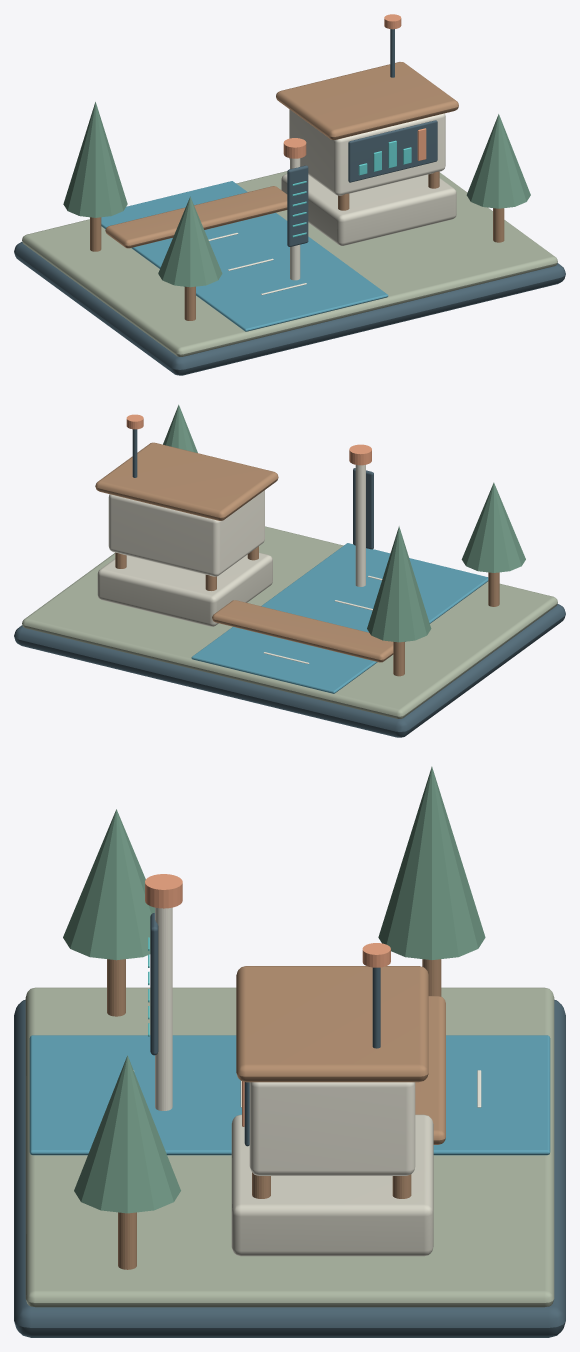
File: Flood-Monitoring-System.glb
3 renders of one model, top to bottom at view 1: azimuth 30°, elevation 25°; view 2: azimuth 150°, elevation 25°; view 3: azimuth 270°, elevation 25°, orthographic. The views are drawn at different scales.
Parts seen in each view (by area): view 1: Terrain, River, Foundation, Roof, Station base, Observation cabin, Footbridge, Evergreen.001, Evergreen.002, Evergreen, Dark screen, Gauge face (+1 smaller); view 2: Terrain, River, Foundation, Observation cabin, Roof, Station base, Footbridge, Evergreen.001, Evergreen, Gauge post, Gauge face, Evergreen.002 (+1 smaller); view 3: Terrain, River, Foundation, Roof, Station base, Observation cabin, Evergreen.001, Evergreen.002, Evergreen, Gauge post, Footbridge, Gauge face (+4 smaller).
Part boxes in pixels (box(x1,y1,x2,y2)): Terrain: box(22, 171, 557, 356); River: box(101, 181, 388, 331); Foundation: box(14, 242, 565, 375); Roof: box(276, 62, 458, 139); Station base: box(281, 174, 456, 245); Observation cabin: box(289, 109, 445, 195); Footbridge: box(105, 186, 287, 248); Evergreen.001: box(63, 102, 127, 217); Evergreen.002: box(466, 114, 530, 208); Evergreen: box(158, 196, 222, 287); Dark screen: box(348, 120, 437, 182); Gauge face: box(287, 165, 308, 246); Terrain: box(22, 526, 557, 718); River: box(191, 543, 488, 693); Foundation: box(14, 604, 565, 737); Observation cabin: box(108, 490, 264, 576); Roof: box(95, 442, 278, 520); Station base: box(97, 552, 272, 626); Footbridge: box(212, 600, 393, 662); Evergreen.001: box(367, 526, 431, 642); Evergreen: box(461, 482, 525, 572); Gauge post: box(355, 465, 365, 586); Gauge face: box(353, 468, 373, 549); Evergreen.002: box(163, 404, 197, 452); Terrain: box(25, 987, 554, 1307); River: box(29, 1035, 550, 1155); Foundation: box(14, 999, 565, 1337); Roof: box(236, 966, 428, 1082); Station base: box(231, 1114, 433, 1256); Observation cabin: box(249, 1082, 415, 1175); Evergreen.001: box(378, 766, 485, 959); Evergreen.002: box(74, 1055, 180, 1213); Evergreen: box(63, 809, 154, 960); Gauge post: box(155, 907, 172, 1110); Footbridge: box(415, 996, 445, 1144); Gauge face: box(150, 913, 158, 1055).
Size of the model in its own units: 4.8 by 2.37 by 3.5.
